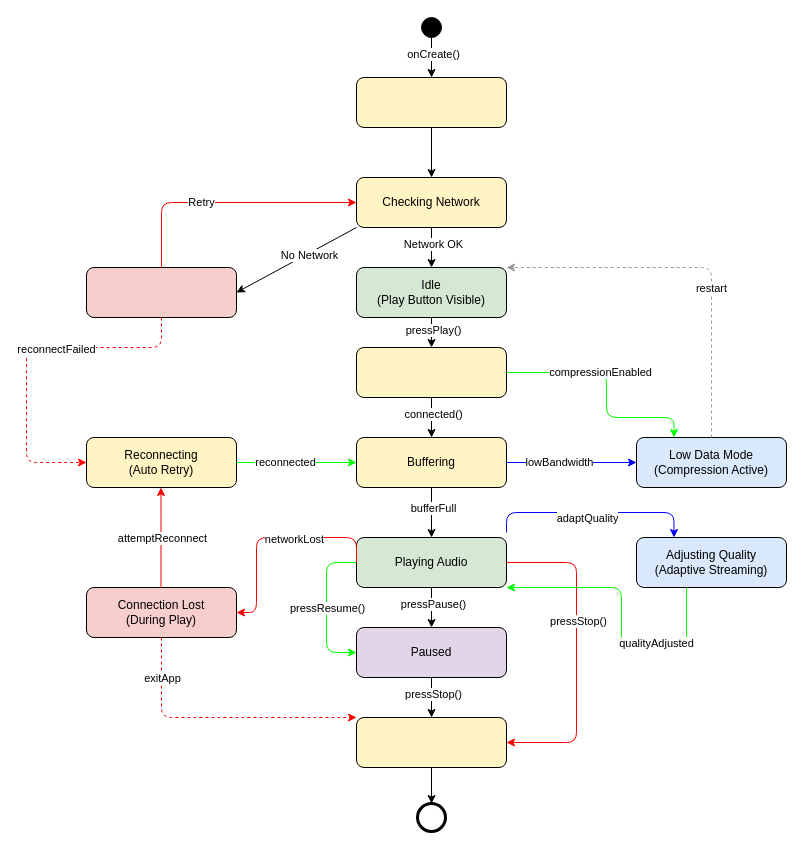
The diagram is 804 pixels wide and 850 high, and some of its shapes have lost their labels. The shapes that lost their labels are listed below. From the top down, each one's box as (x1, y1, x2, y2) in pixels, then its label:
(356, 76, 506, 128): App Opening
(86, 266, 236, 318): Network Error (Show Retry)
(356, 346, 506, 398): Initializing Stream
(356, 716, 506, 768): Stopping Stream
